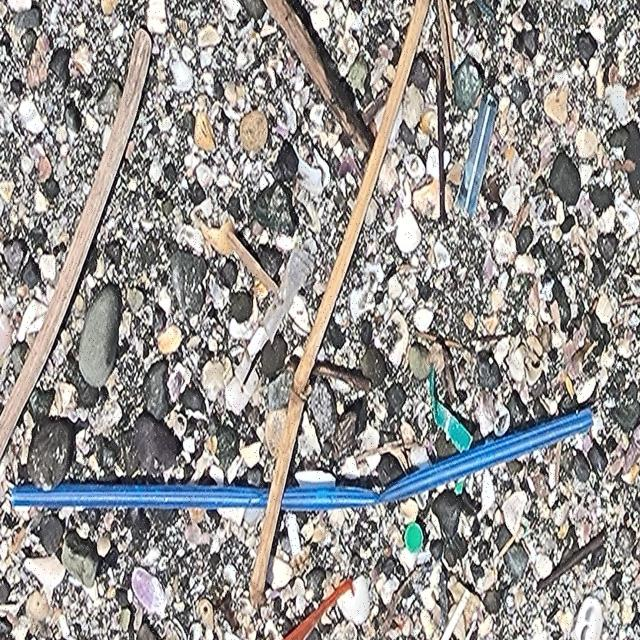plastic_waste: (10, 405, 597, 513)
